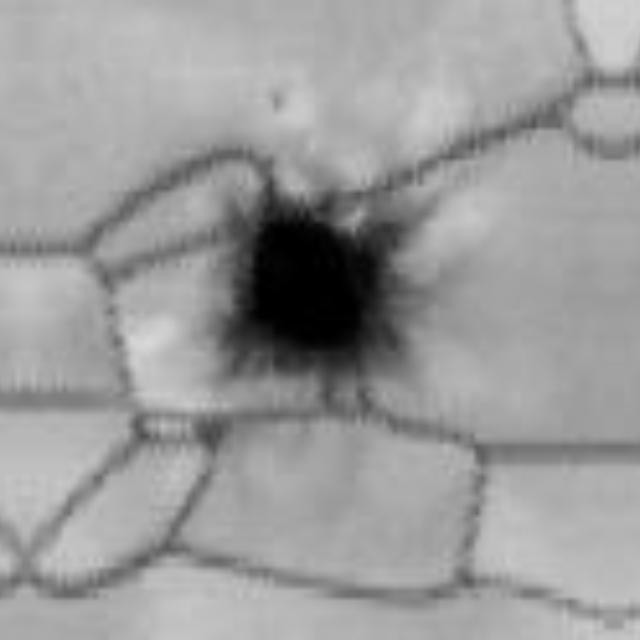good_void: (214, 173, 404, 413)
